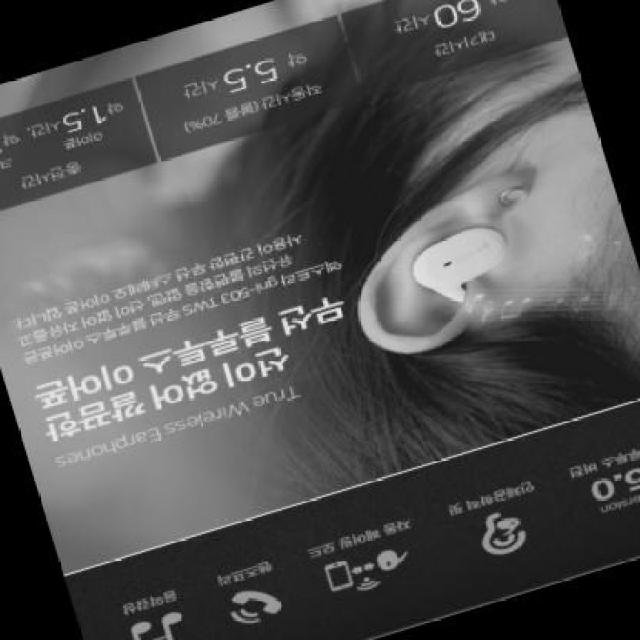earphone: (398, 193, 514, 318)
